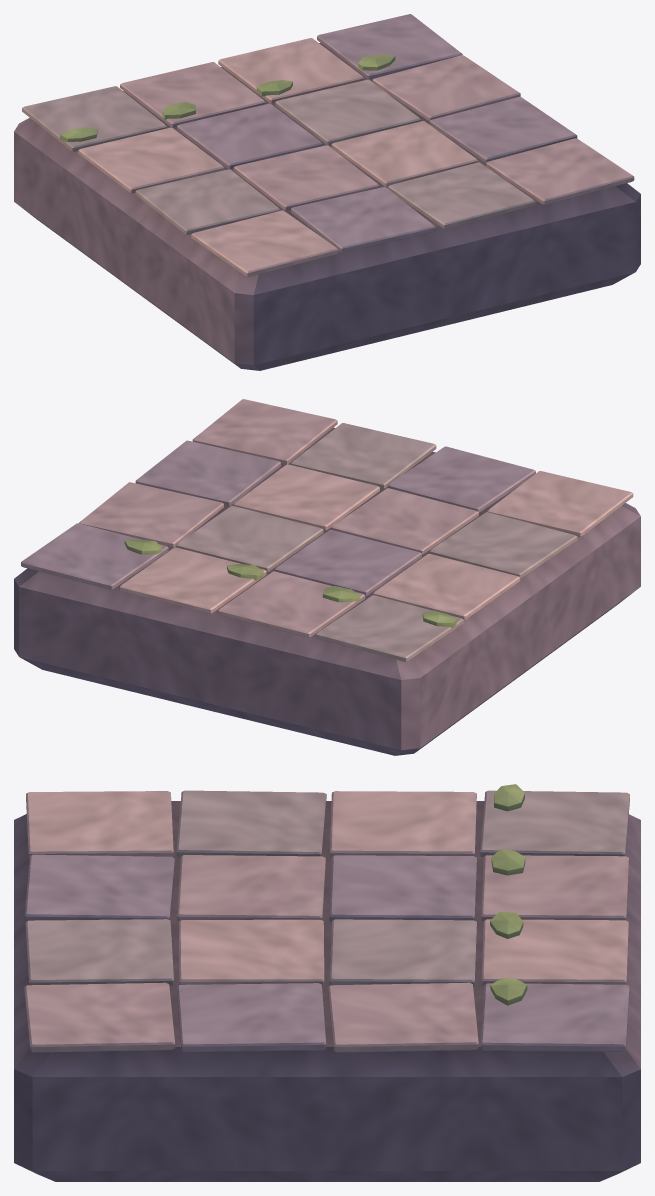
File: dusk_floor_0.glb
3 views of the same model, one above another, from view 1: azimuth 30°, elevation 25°; view 2: azimuth 150°, elevation 25°; view 3: azimuth 270°, elevation 25° (orthographic). The views are drawn at different scales.
Visible parts, largest first — view 1: Dämmergänge · Platten und Moos; view 2: Dämmergänge · Platten und Moos; view 3: Dämmergänge · Platten und Moos.
Boxes of the visible parts, x1,y1,x2,y2 form: Dämmergänge · Platten und Moos: (14, 14, 640, 370); Dämmergänge · Platten und Moos: (14, 399, 640, 755); Dämmergänge · Platten und Moos: (14, 784, 640, 1181).
Bounding box in the file's own units: 2.4 × 0.631 × 2.4.
Materials: 1 (1 with a texture image).
